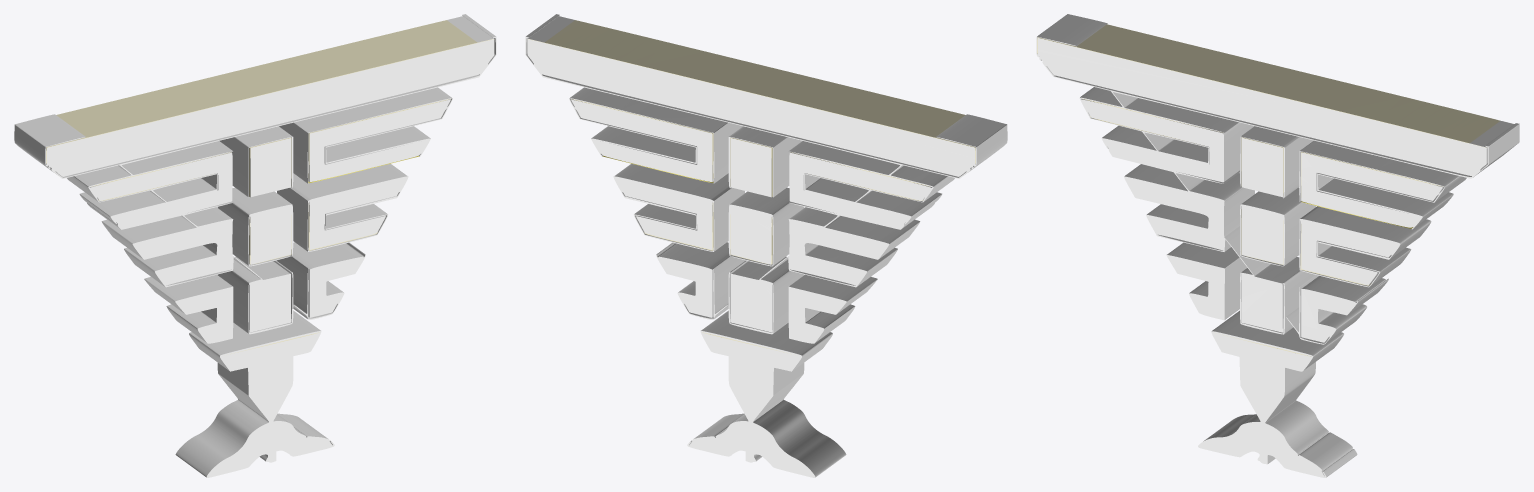
Rendered from LaRaza3DWhite.fbx.
3 renders of one model, left to right at view 1: azimuth 30°, elevation 25°; view 2: azimuth 150°, elevation 25°; view 3: azimuth 330°, elevation 25°, orthographic.
Parts seen in each view (by area): view 1: imagetostl_mesh3; view 2: imagetostl_mesh3; view 3: imagetostl_mesh3.
Part boxes in pixels (x1,y1,x2,y2): imagetostl_mesh3: (14, 14, 496, 477); imagetostl_mesh3: (525, 14, 1007, 477); imagetostl_mesh3: (1036, 14, 1519, 477).
Bounding box in the file's own units: 3322 × 2612 × 394.
